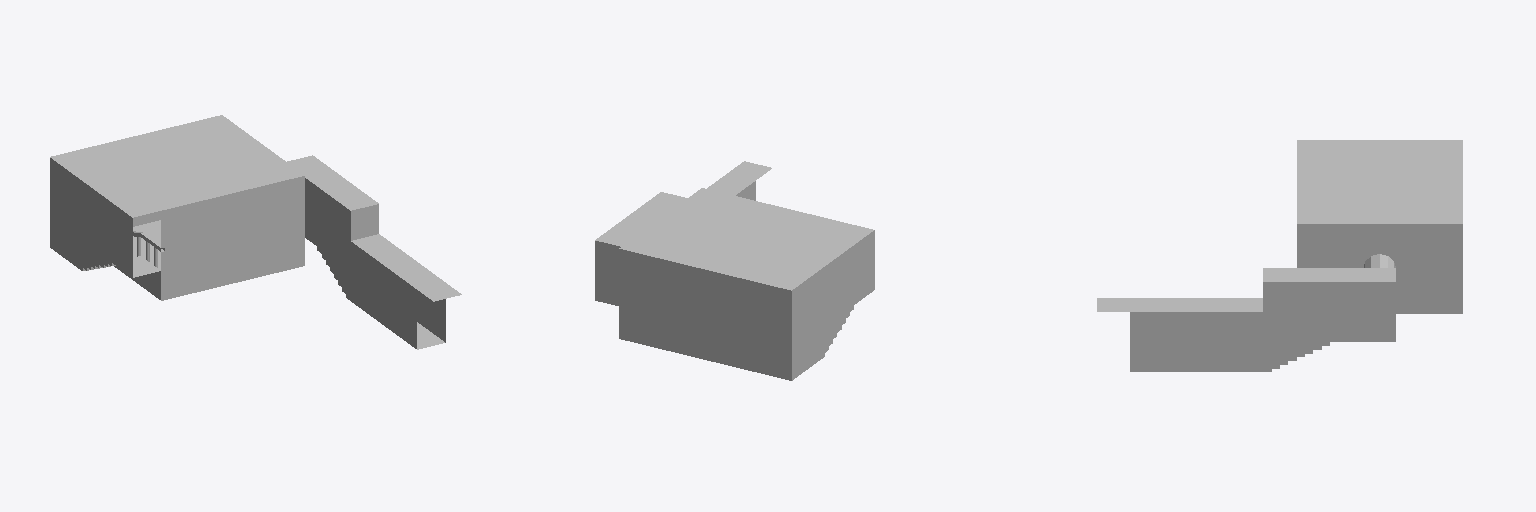
Rendered from map3.obj.
The picture shows the model from 3 angles: view 1: azimuth 30°, elevation 25°; view 2: azimuth 150°, elevation 25°; view 3: azimuth 270°, elevation 25°; orthographic projection.
Parts seen in each view (by area): view 1: map3; view 2: map3; view 3: map3.
Boxes of the visible parts, x1,y1,x2,y2 form: map3: [50, 115, 461, 349]; map3: [595, 161, 874, 380]; map3: [1097, 140, 1462, 371].
Size of the model in its own units: 8 by 4 by 11.